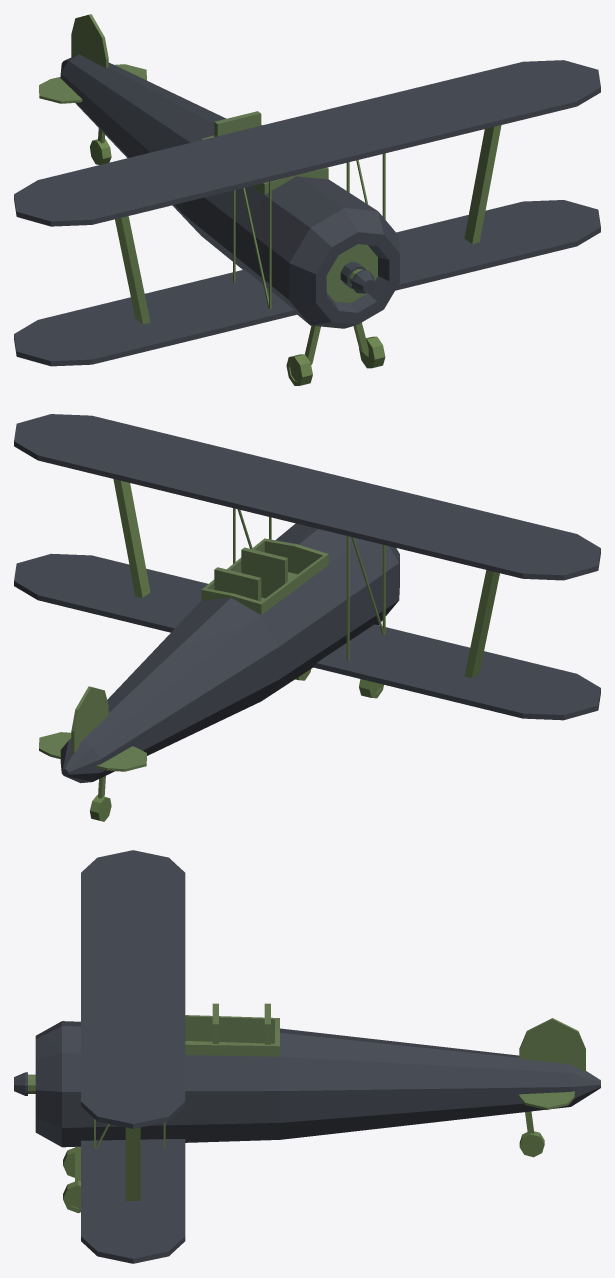
3 views of the same model, one above another, from view 1: azimuth 30°, elevation 25°; view 2: azimuth 150°, elevation 25°; view 3: azimuth 270°, elevation 25° (orthographic). The views are drawn at different scales.
Parts seen in each view (by area): view 1: Plane_02; view 2: Plane_02; view 3: Plane_02.
Boxes of the visible parts, <box> form: Plane_02: <box>14,14,600,385</box>; Plane_02: <box>14,414,600,821</box>; Plane_02: <box>14,850,600,1263</box>.
Size of the model in its own units: 6.42 by 2.26 by 5.81.
